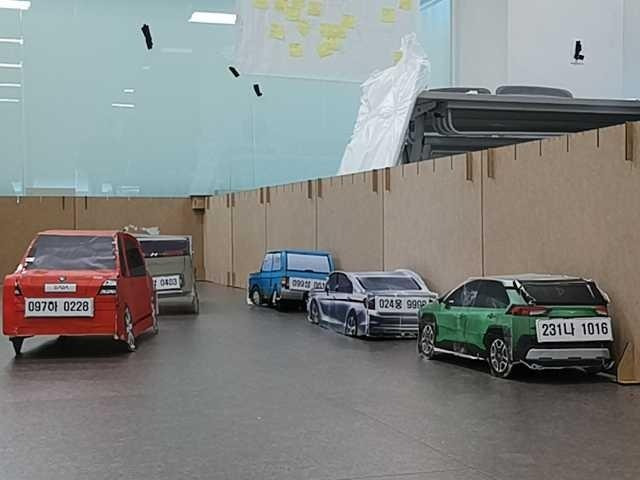car: (415, 274, 619, 384), (0, 225, 161, 360), (309, 269, 442, 343), (246, 249, 333, 309), (141, 233, 200, 311)
id: (534, 317, 613, 343), (23, 297, 95, 320), (373, 294, 434, 315), (288, 276, 325, 292), (152, 274, 184, 291)
